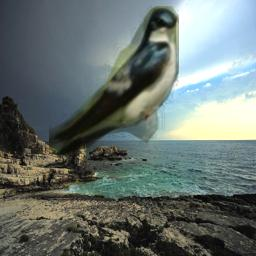Swallow: (49, 6, 179, 158)
